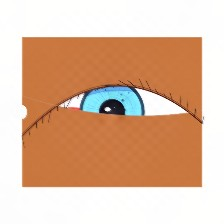hemorrhage_spot: (25, 80, 121, 157)
